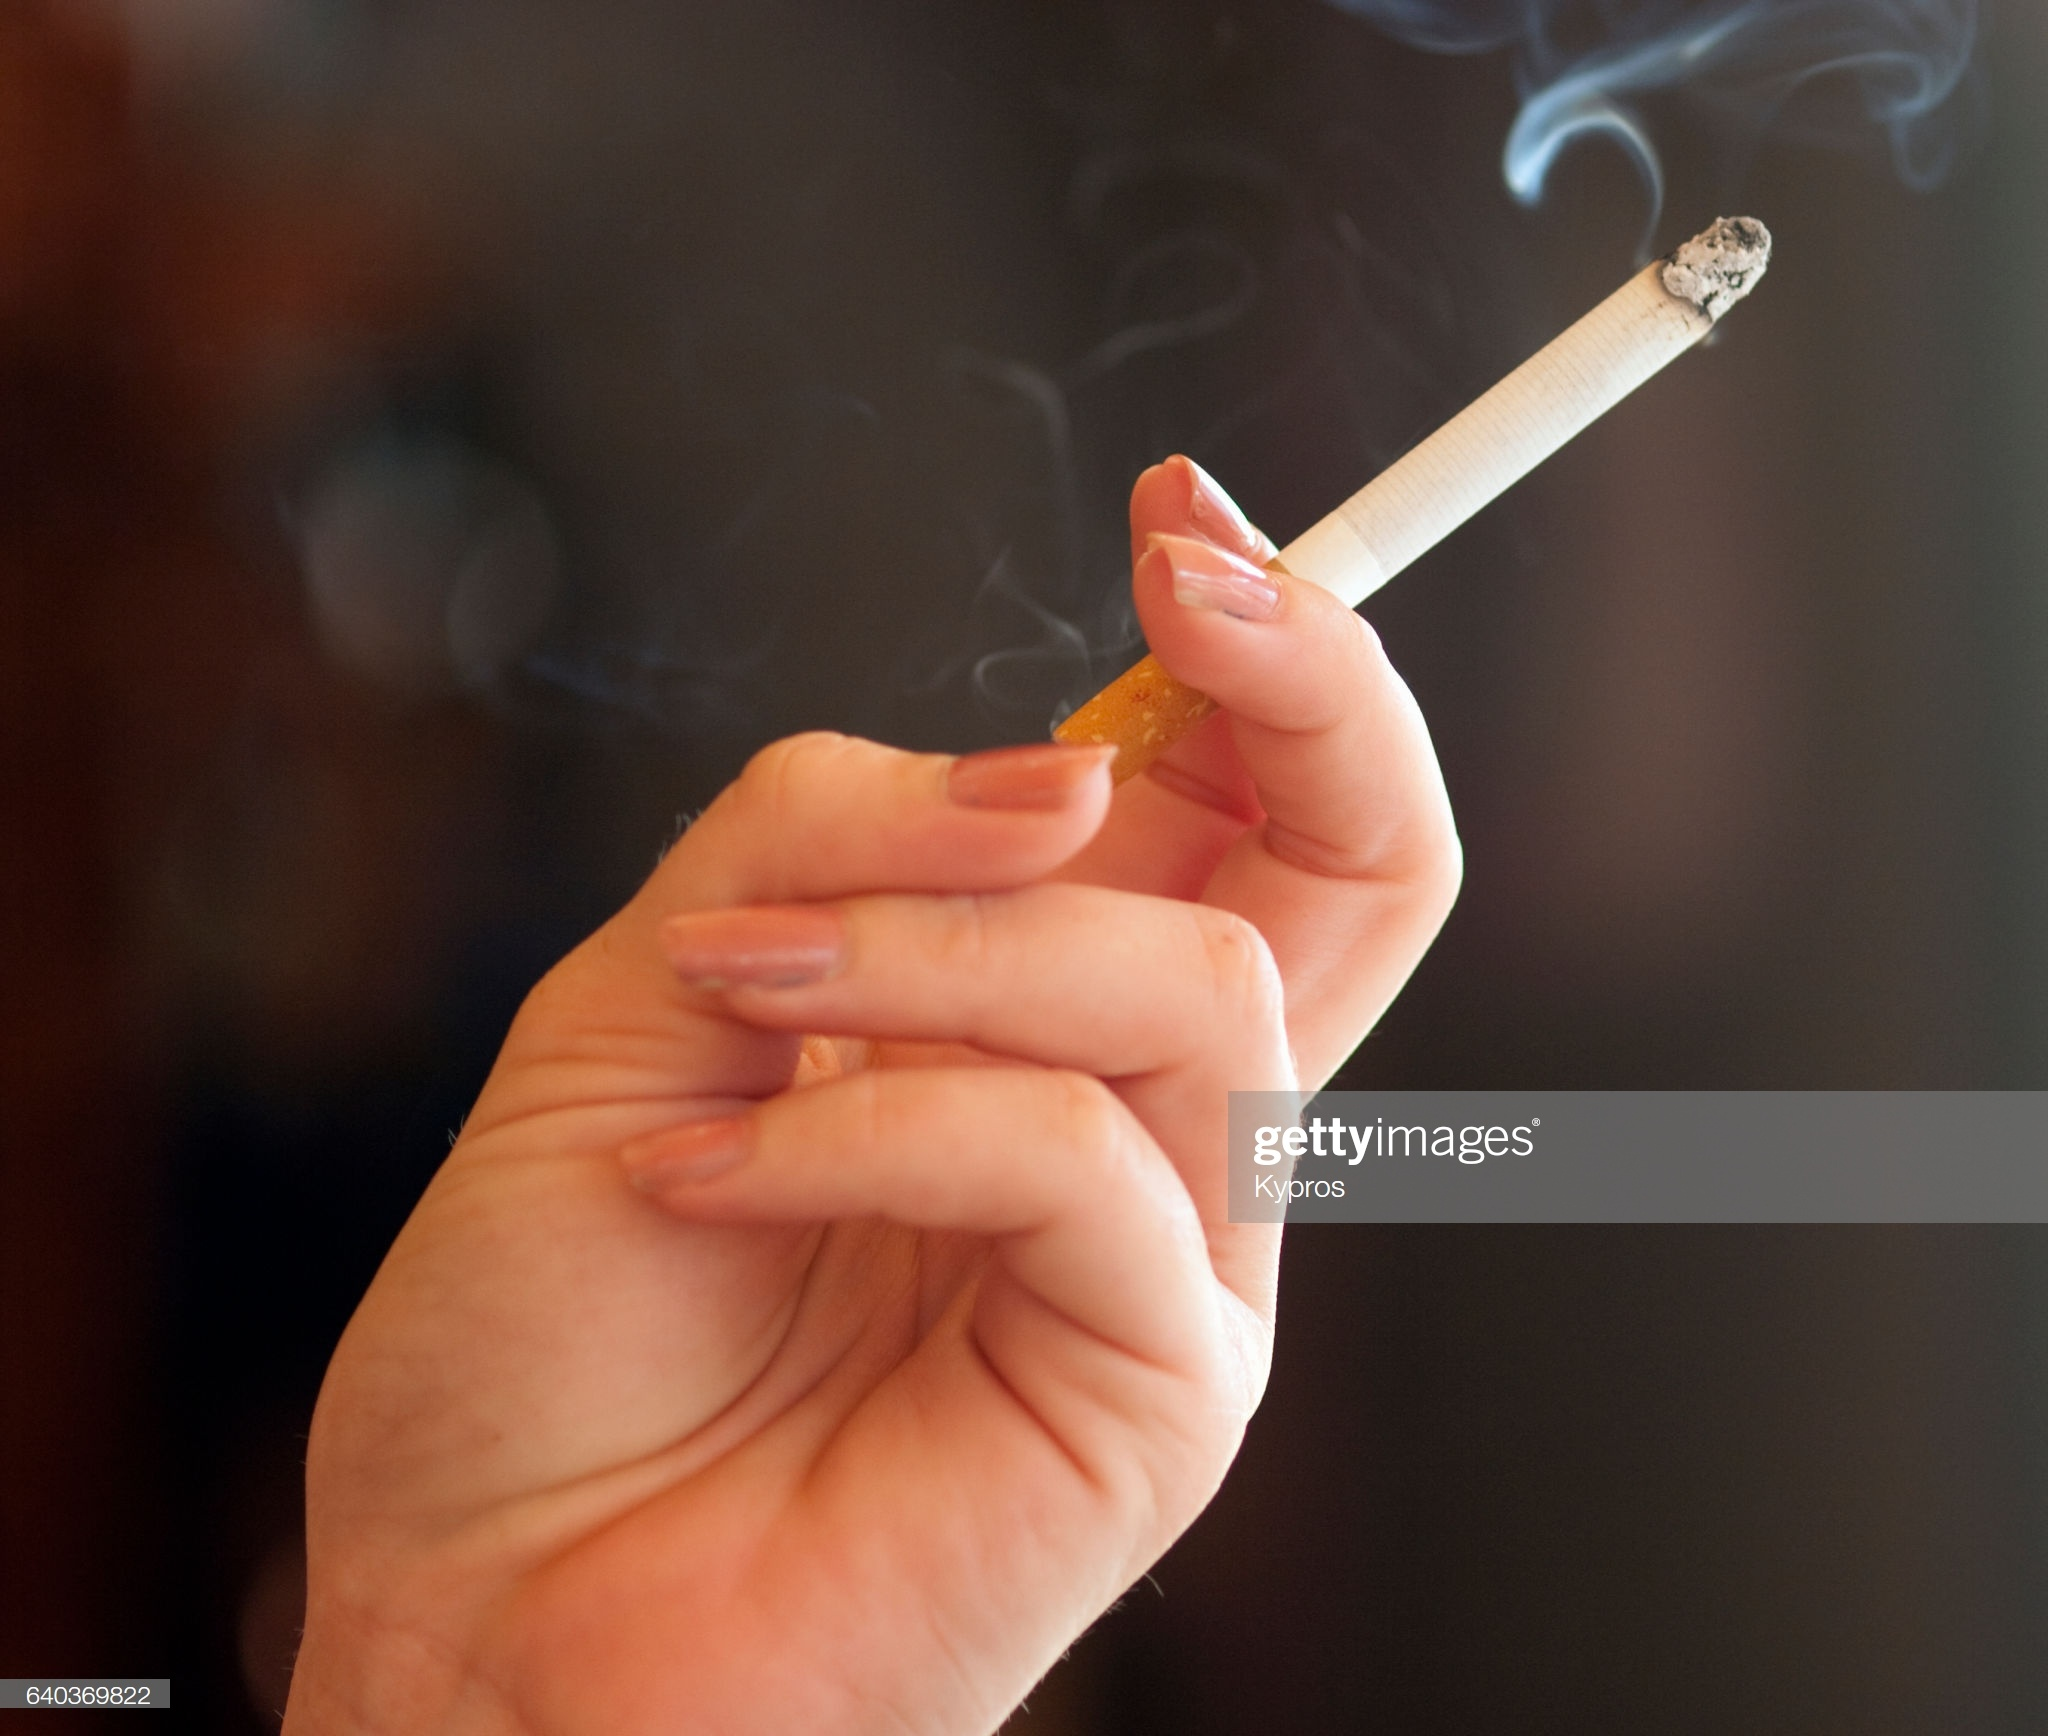sigaretta: (1030, 239, 1760, 770)
